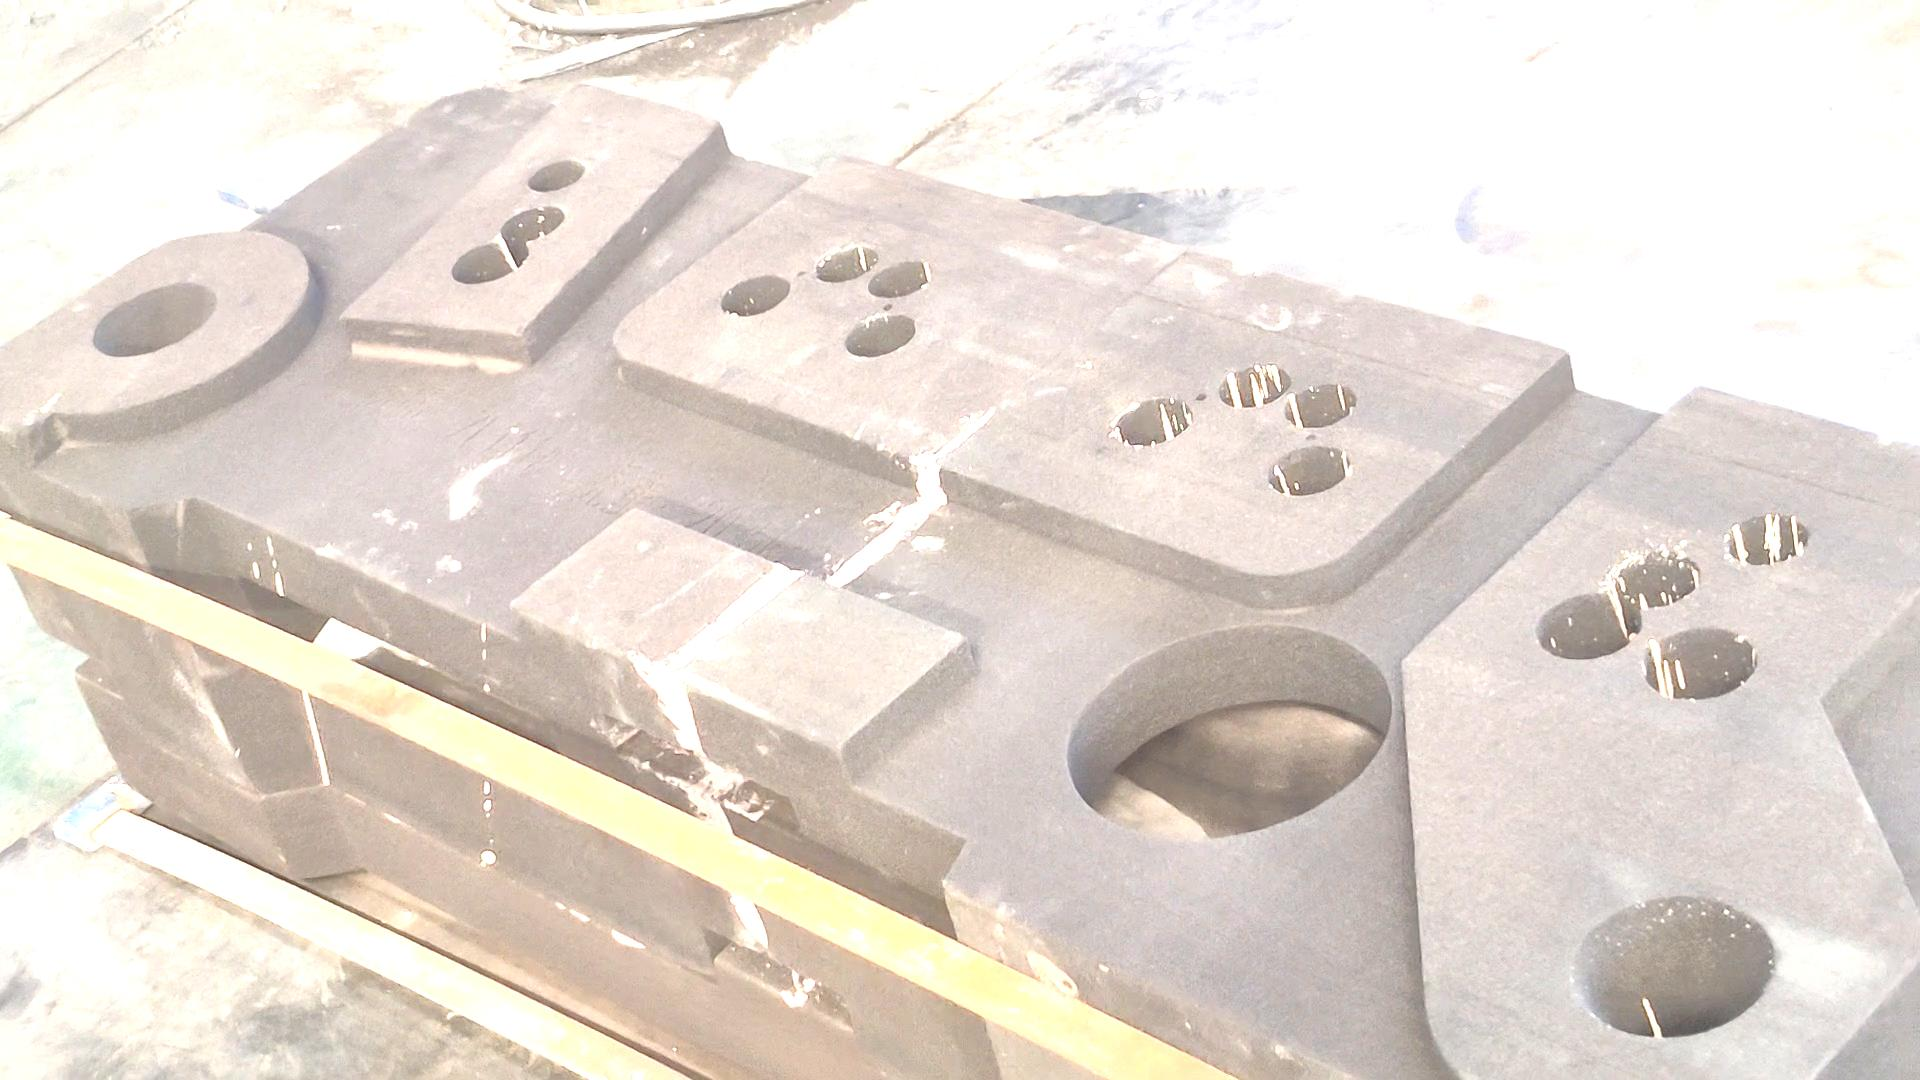pouring hole: (1571, 895, 1776, 1038), (92, 282, 218, 356)
